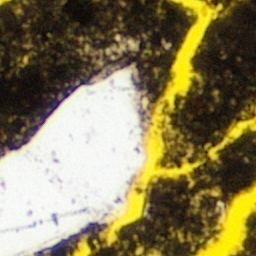air_pores: (0, 0, 8, 4)
cement_matrix: (31, 0, 255, 255), (0, 0, 192, 160), (235, 213, 255, 255), (112, 40, 135, 54), (207, 146, 219, 158)
cracks: (102, 0, 220, 242), (192, 182, 255, 255), (224, 107, 255, 141), (71, 237, 91, 255)
gravel_crushed_stones: (0, 71, 146, 255), (113, 41, 134, 53), (208, 147, 218, 157), (148, 252, 159, 255)
